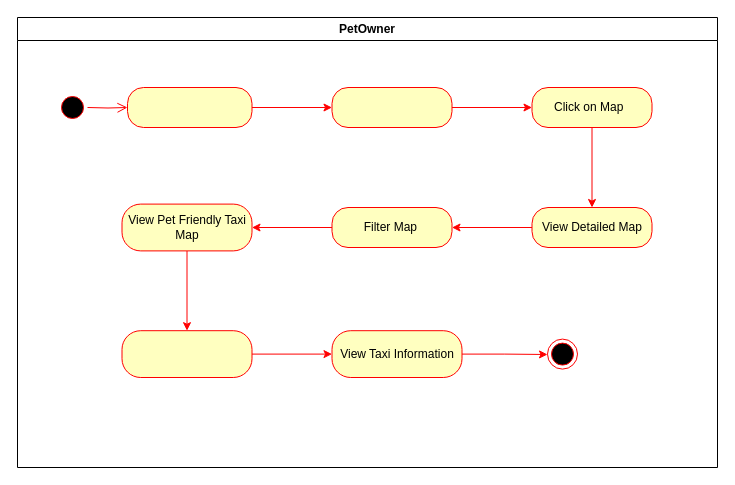
Image size: 735x485. Some labels were removed from this diagram. The shapes that lost their labels are listed below. From the top down, each one's centre as x and y in pixels, then its label:
pixel 189 107: Login
pixel 391 107: View Dashboard
pixel 186 354: Click on Taxi
